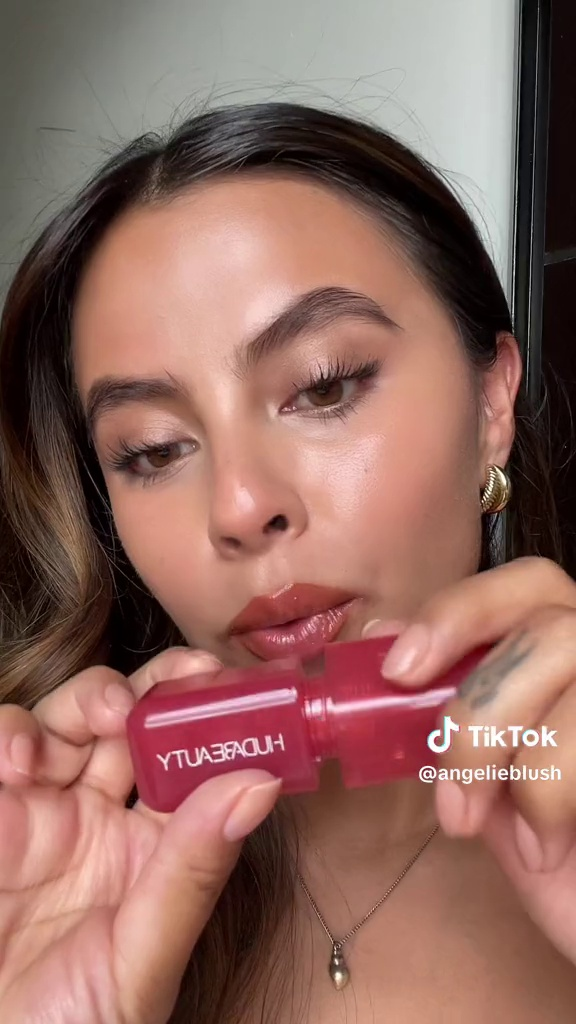train' :'yolo_data/train/images',: (116, 626, 490, 821)
